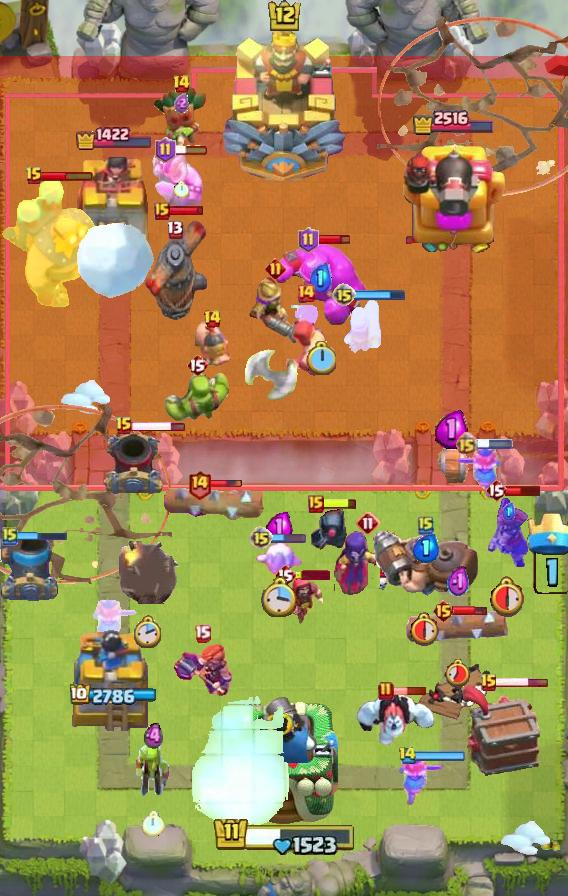axe: (243, 339, 299, 401)
bar: (131, 420, 186, 433), (41, 170, 94, 182), (16, 530, 68, 542), (354, 289, 406, 301), (495, 677, 549, 688), (414, 751, 465, 761), (505, 484, 542, 497), (452, 604, 488, 617), (322, 497, 358, 510), (316, 233, 351, 246), (271, 532, 307, 544), (173, 144, 209, 156), (168, 205, 205, 216), (475, 439, 513, 449), (294, 570, 330, 580), (392, 686, 427, 696), (209, 479, 243, 489)
bar-level: (187, 469, 212, 500), (249, 526, 273, 550), (356, 511, 380, 535), (332, 283, 356, 307), (432, 599, 455, 623), (298, 227, 319, 253), (155, 137, 176, 163), (455, 432, 478, 455), (274, 563, 296, 587), (485, 478, 507, 502), (186, 353, 208, 377), (265, 258, 286, 279), (296, 283, 316, 303), (203, 309, 222, 329), (172, 74, 191, 94), (398, 746, 417, 765), (480, 673, 498, 693), (115, 416, 133, 436), (25, 166, 43, 186), (194, 624, 211, 643), (378, 681, 394, 701), (2, 526, 18, 546), (418, 515, 434, 535), (308, 495, 324, 513), (154, 202, 170, 220)
bomb: (119, 541, 178, 604)
cannoneer-tower: (399, 138, 507, 256)
clock: (490, 575, 528, 617), (261, 576, 298, 617), (410, 611, 442, 646), (306, 341, 336, 375), (134, 615, 163, 650), (444, 658, 472, 687), (142, 811, 165, 837), (174, 181, 189, 198)
dart-goblin: (152, 87, 210, 153)
elite-barbarian: (151, 150, 205, 208)
elixir: (435, 410, 468, 449), (266, 510, 293, 543), (447, 565, 470, 600), (413, 534, 440, 563), (310, 263, 332, 292), (144, 722, 163, 751), (174, 93, 189, 113), (503, 503, 515, 520)
firecracker: (341, 297, 383, 355)
goblin: (134, 741, 172, 799)
goblin-brawler: (165, 367, 229, 423)
ice-spirit-evolution: (254, 541, 304, 579)
king-tower: (220, 21, 348, 181), (230, 692, 338, 826)
king-tower-bar: (212, 813, 356, 855)
lumberjack: (278, 305, 334, 381)
mini-pekka: (307, 501, 349, 555)
mortar: (103, 430, 165, 498), (0, 537, 60, 601)
musketeer: (246, 275, 304, 345)
queen-tower: (64, 621, 164, 731), (71, 154, 157, 256)
royal-hog: (192, 318, 232, 370)
the-log: (163, 483, 266, 521), (405, 610, 512, 646)
tower-bar: (411, 108, 495, 136), (70, 684, 159, 707), (75, 126, 154, 151)
valkyrie: (397, 753, 445, 807), (91, 598, 139, 652), (455, 446, 503, 500)
valkyrie-evolution: (170, 643, 234, 699), (487, 494, 531, 570)
wall-breaker: (429, 428, 473, 486)
witch: (334, 528, 402, 596)
wizard: (275, 573, 325, 627)
